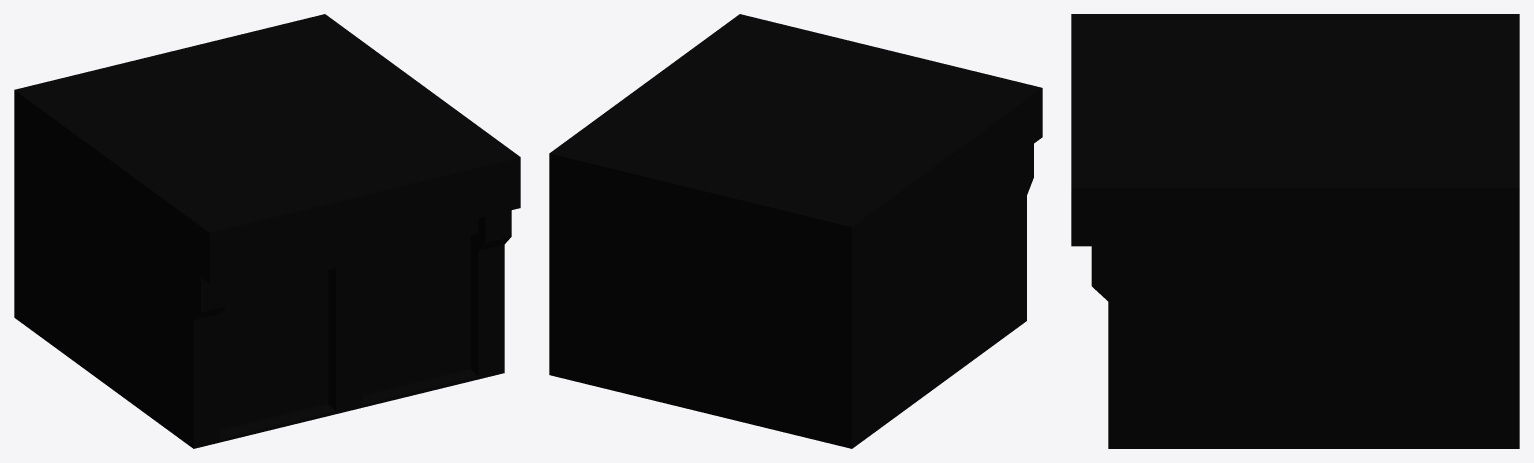
File: pitsGarageClosed.glb
The picture shows the model from 3 angles, left to right: view 1: azimuth 30°, elevation 25°; view 2: azimuth 150°, elevation 25°; view 3: azimuth 270°, elevation 25°; orthographic projection. The views are drawn at different scales.
Parts seen in each view (by area): view 1: Mesh pitsGarageClosed; view 2: Mesh pitsGarageClosed; view 3: Mesh pitsGarageClosed.
Part boxes in pixels (x1,y1,x2,y2): Mesh pitsGarageClosed: (14, 14, 520, 448); Mesh pitsGarageClosed: (549, 14, 1042, 448); Mesh pitsGarageClosed: (1071, 14, 1519, 448).
Size of the model in its own units: 1 by 0.7 by 1.09.
Materials: 1 (1 with a texture image).
